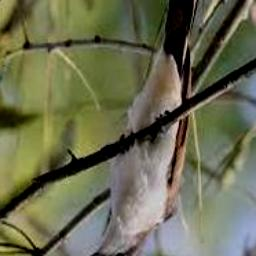Cuckoo: (81, 0, 211, 256)
